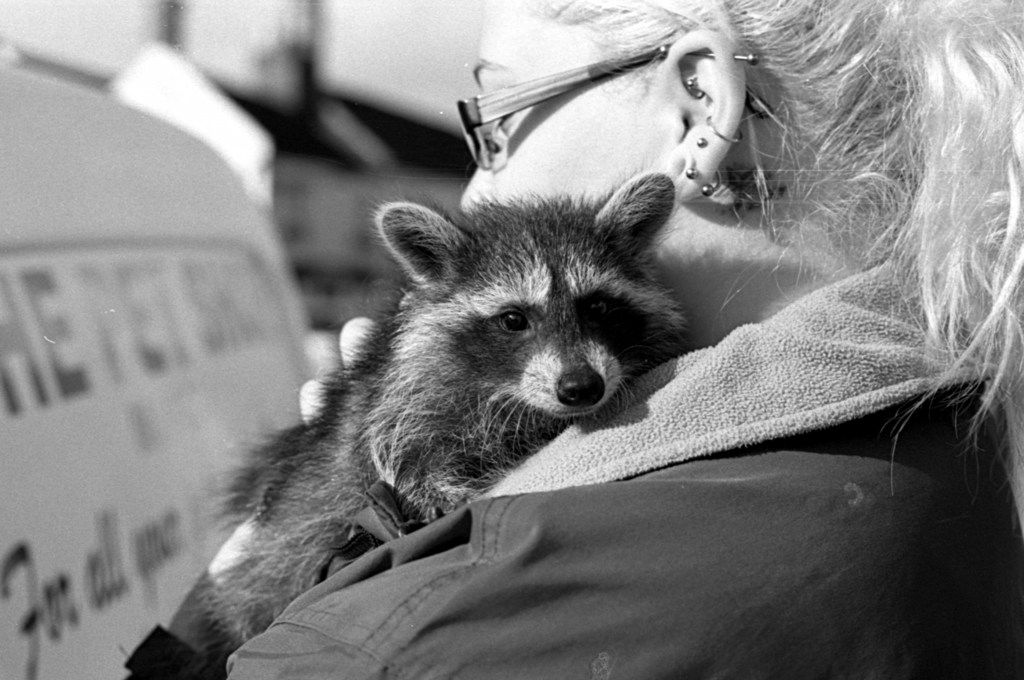raccoon: (218, 169, 689, 477)
